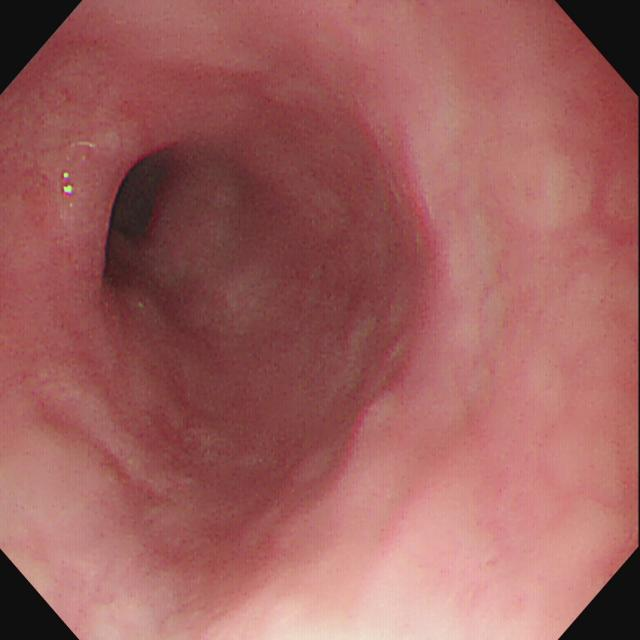A: (147, 396, 225, 490)
E: (112, 165, 161, 236)
U: (62, 173, 73, 201)
